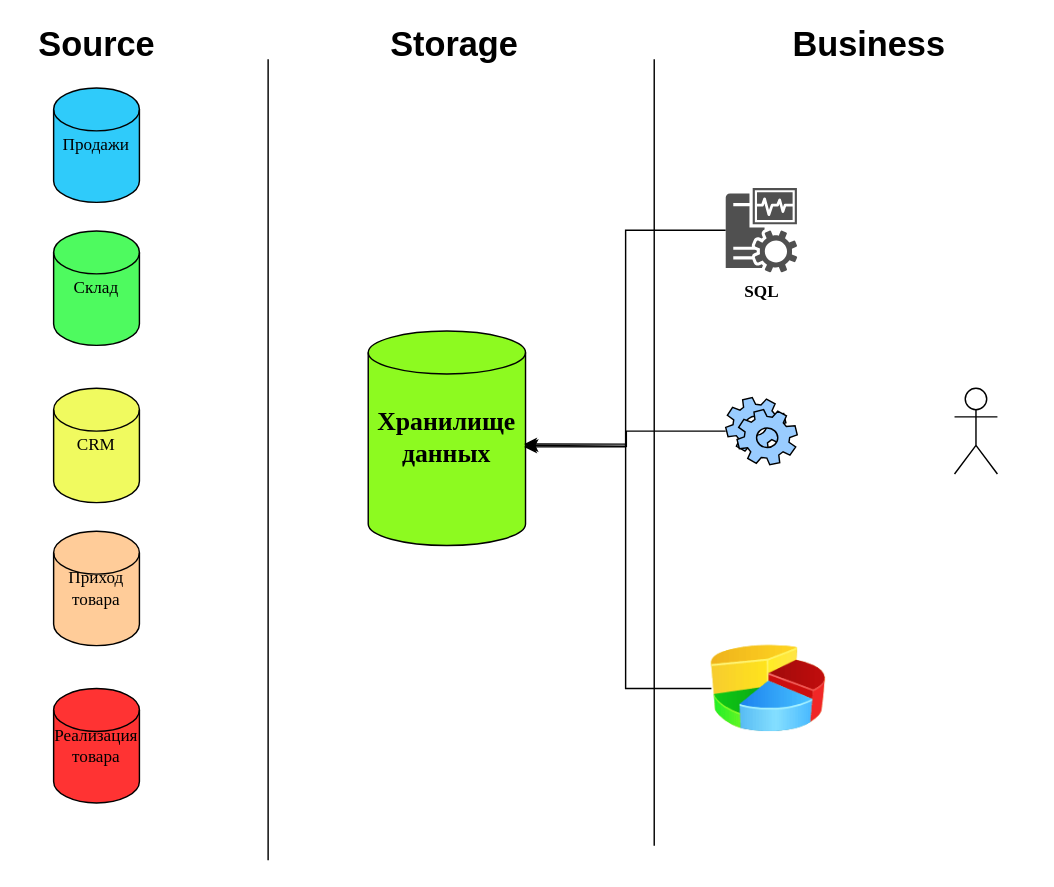
Some shapes in this 1054 by 887 pixel diagram are drawn without their labels. Each missing label, with the box of its shape:
Business Intelligence: (711, 631, 825, 745)
Exce l: (724, 396, 797, 465)
Пользователь: (953, 387, 997, 474)
